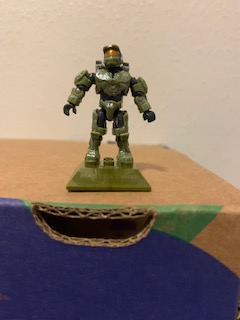chief: (60, 42, 155, 165)
spartan: (62, 44, 157, 167)
